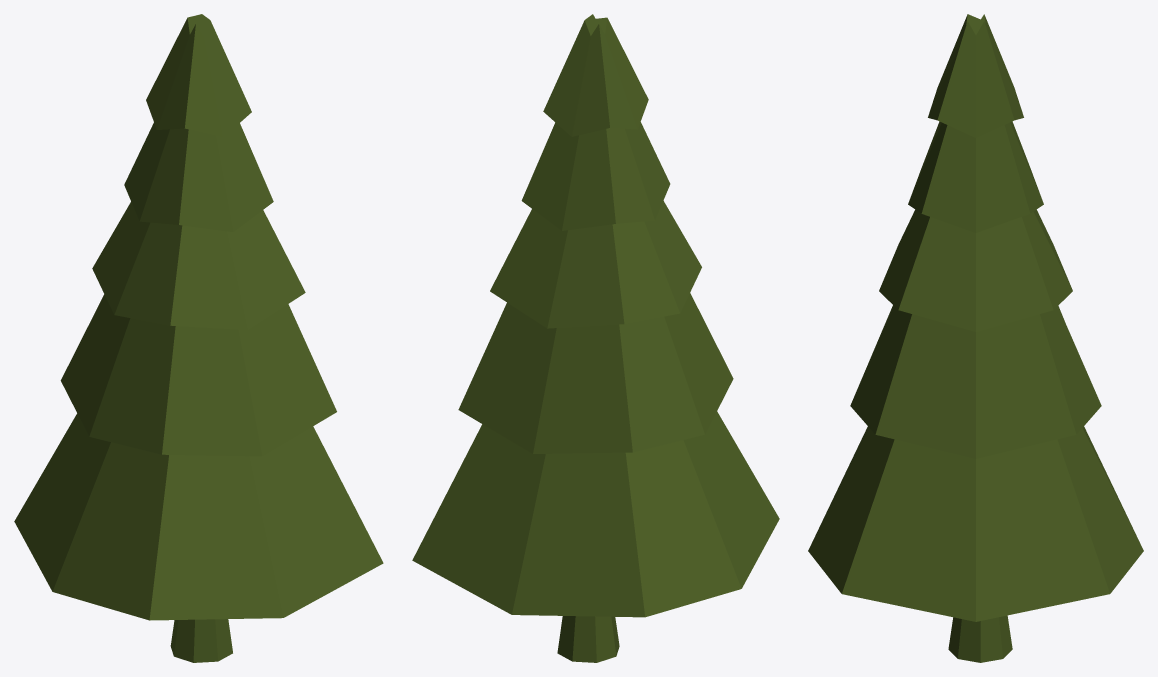
The model's file is tree.fbx.
The picture shows the model from 3 angles, left to right: view 1: azimuth 30°, elevation 25°; view 2: azimuth 150°, elevation 25°; view 3: azimuth 270°, elevation 25°; orthographic projection.
Visible parts, largest first — view 1: Cylinder; view 2: Cylinder; view 3: Cylinder.
Part boxes in pixels (left/top/right/bottom): Cylinder: left=14, top=14, right=383, bottom=662; Cylinder: left=412, top=14, right=779, bottom=662; Cylinder: left=808, top=14, right=1143, bottom=662.
Size of the model in its own units: 2.37 by 4.9 by 2.37.
